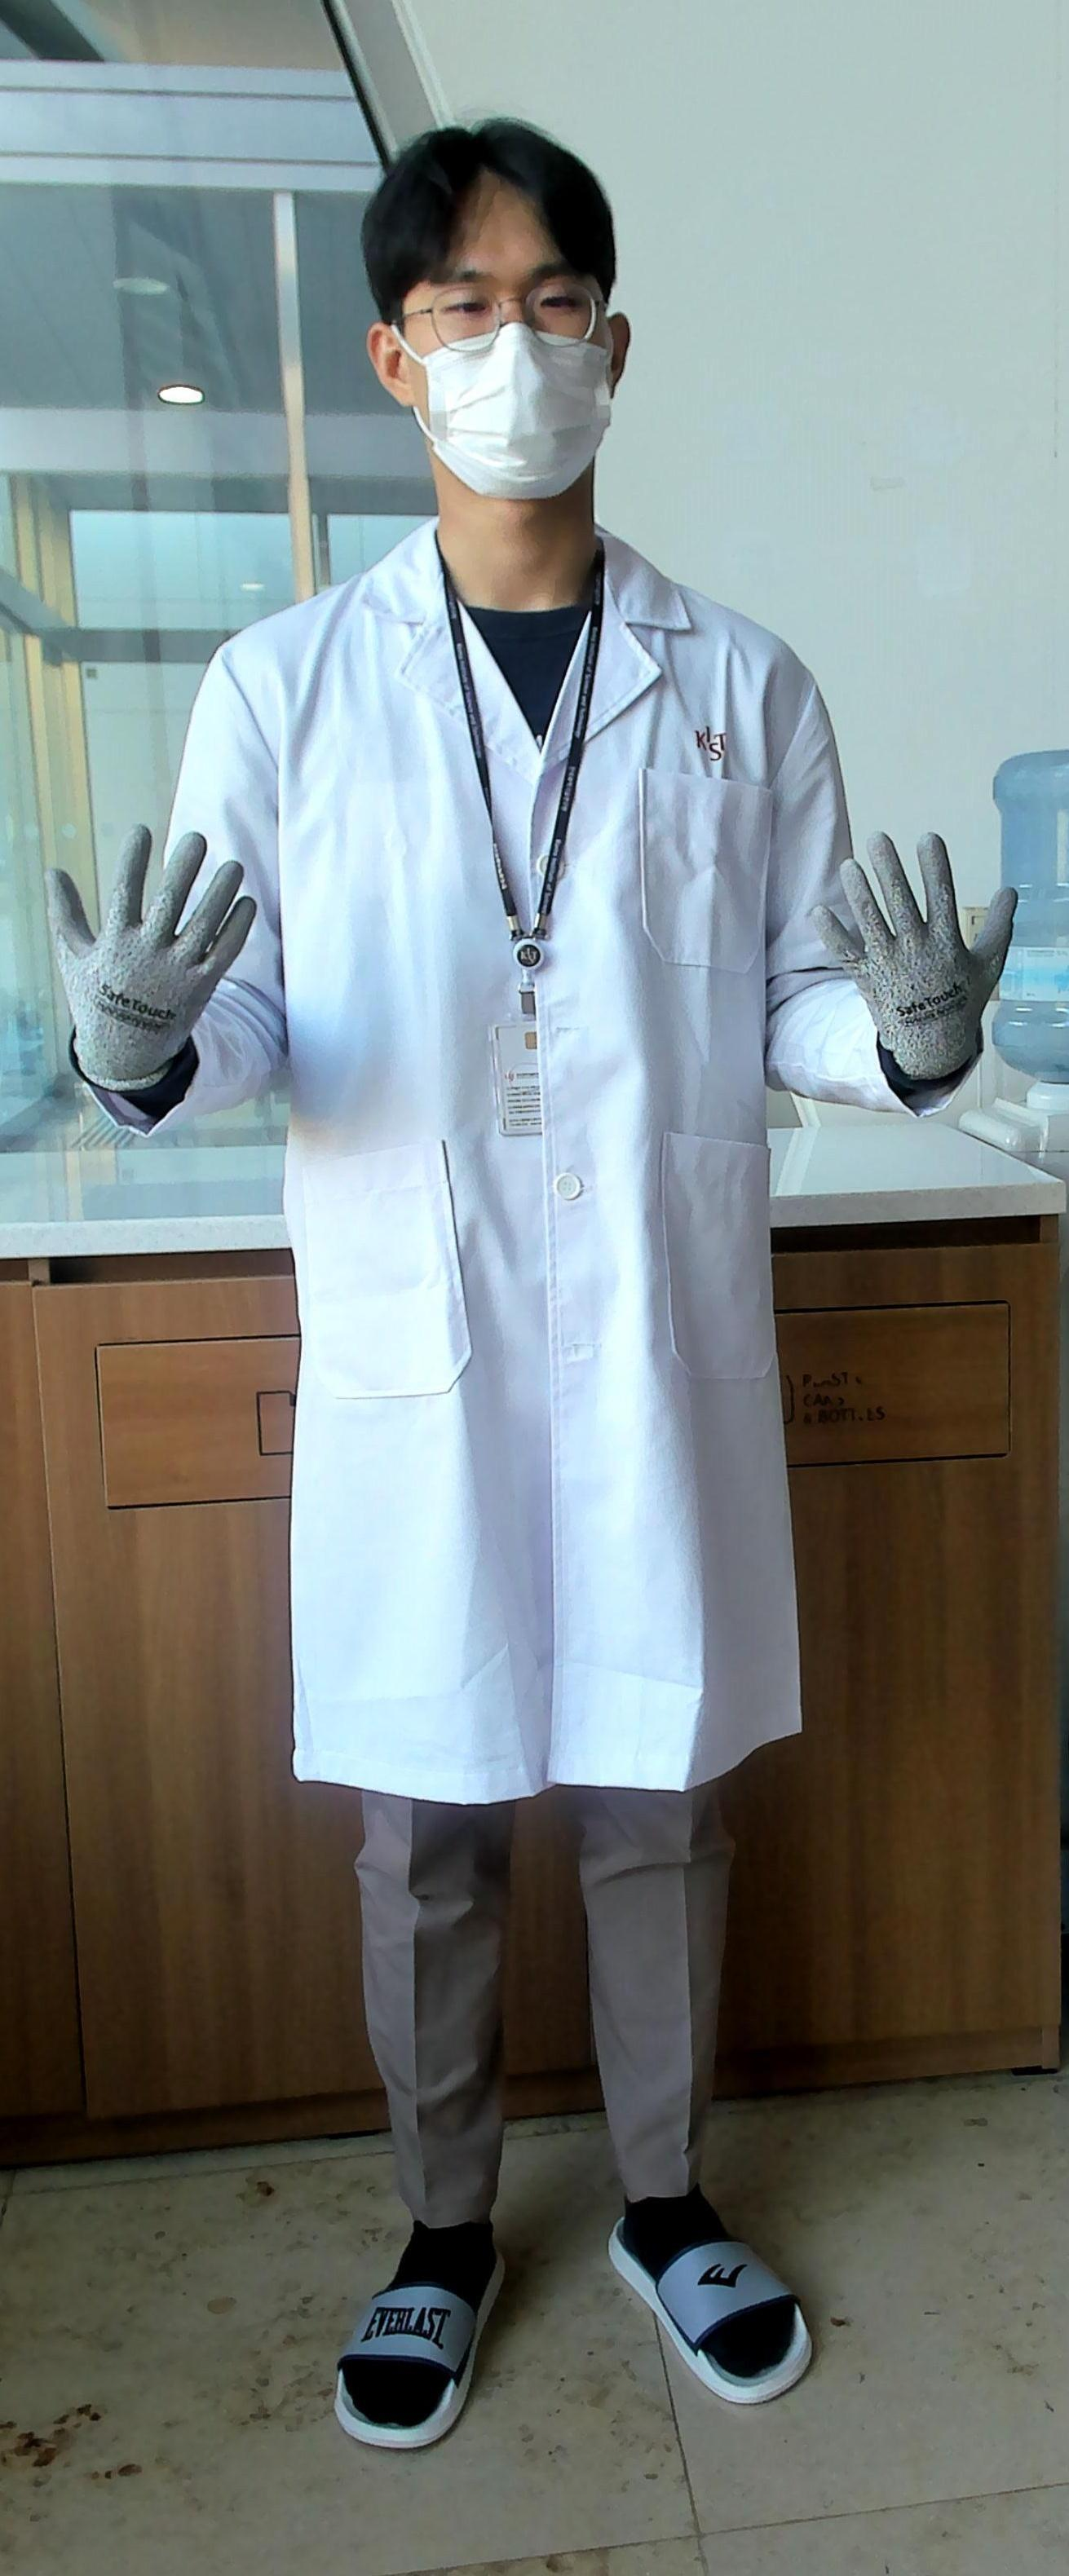lab_coat: (258, 616, 833, 1751)
